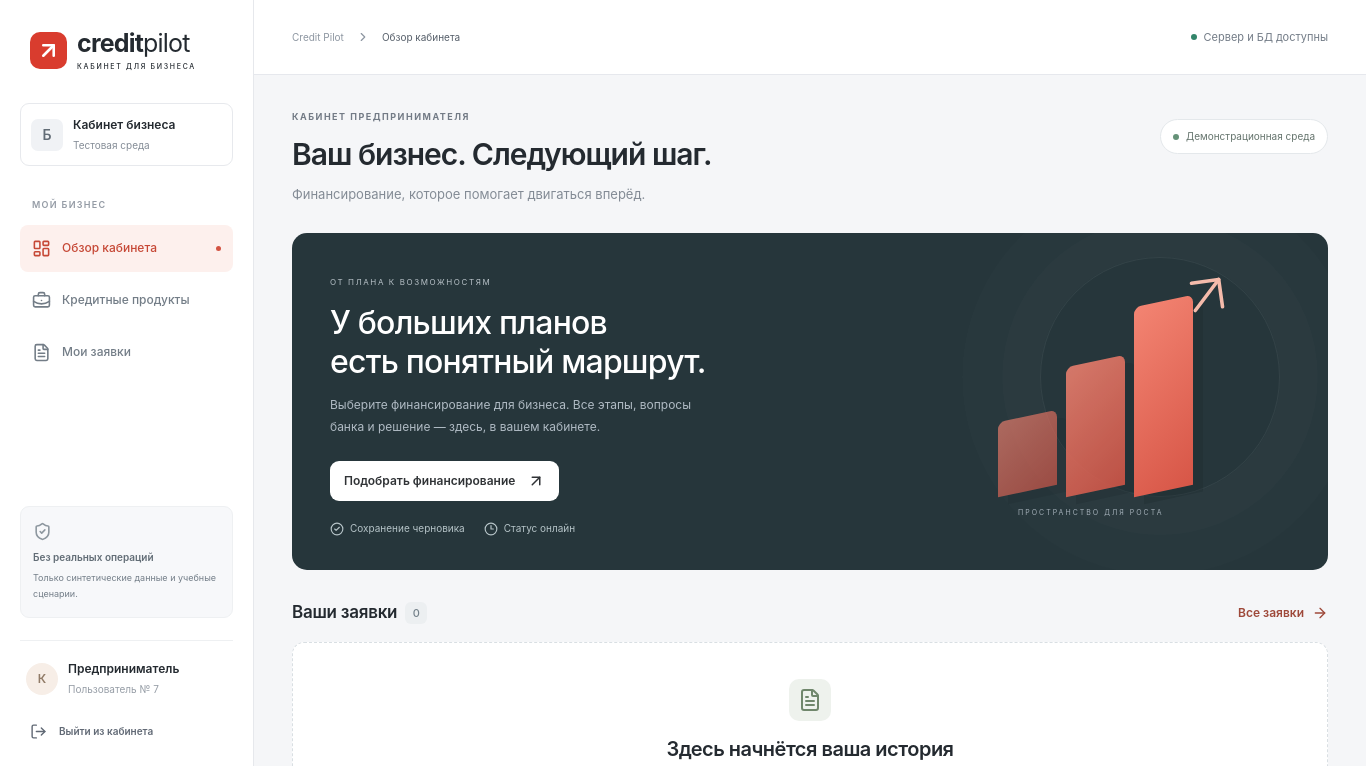
Test case: серверная сессия и навигация › при неверном CSRF очищает токен и требует входа без повтора команды
Expected: the navigation bar is shown, [20,224,233,376]
Click the button "Выйти из кабинета". click: (126, 731)
box: [20,711,233,751]
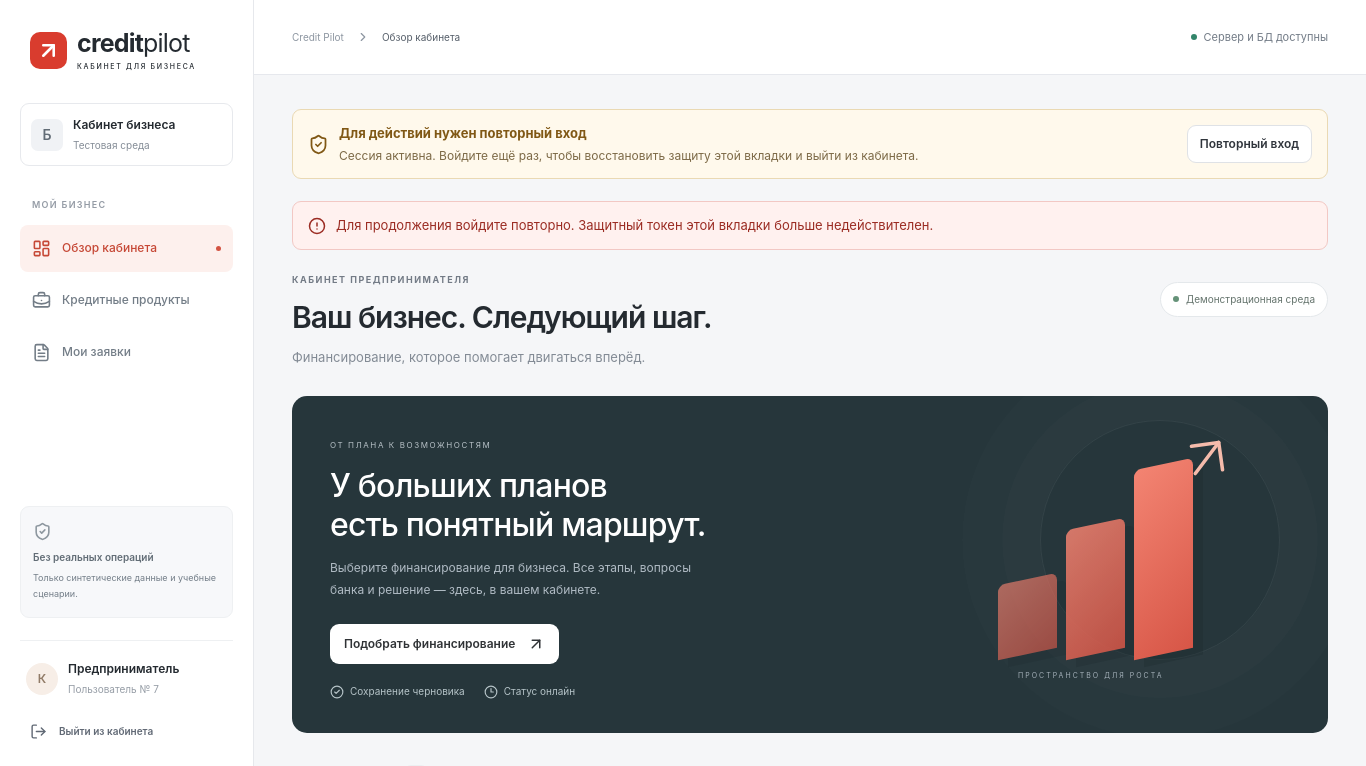
Result: the text "Для действий нужен повторный вход" is shown at [339,125,587,141]
